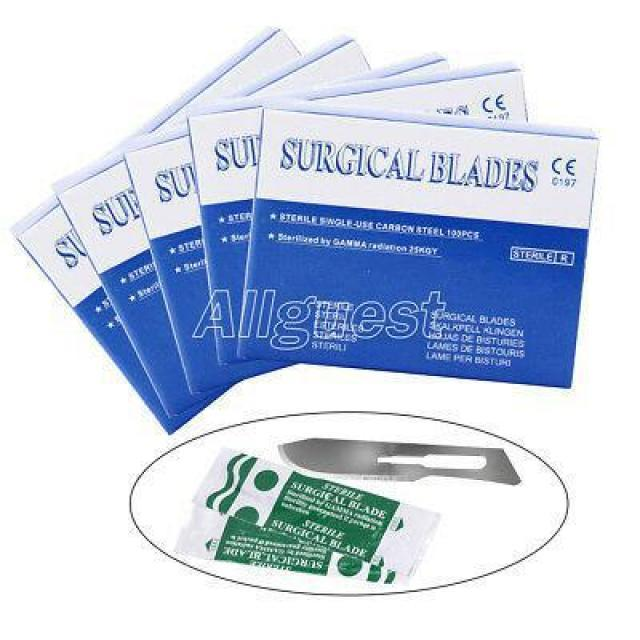Scalpel: (269, 435, 520, 488)
